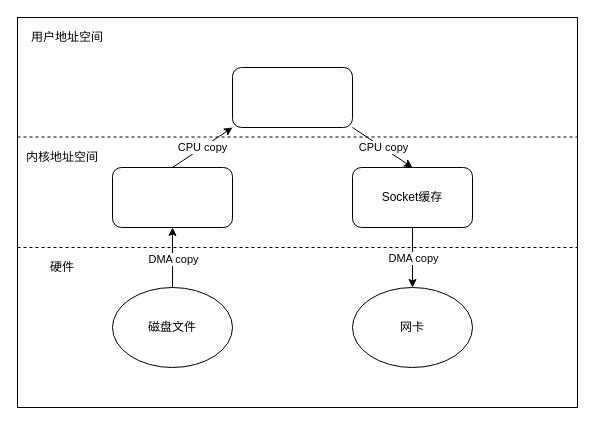
This 596x425 diagram has some shape labels left out. Each missing label, with the centre of its shape:
Kernel缓存 / page cache: the point at 172,197
用户缓存 / PTE: the point at 292,97
